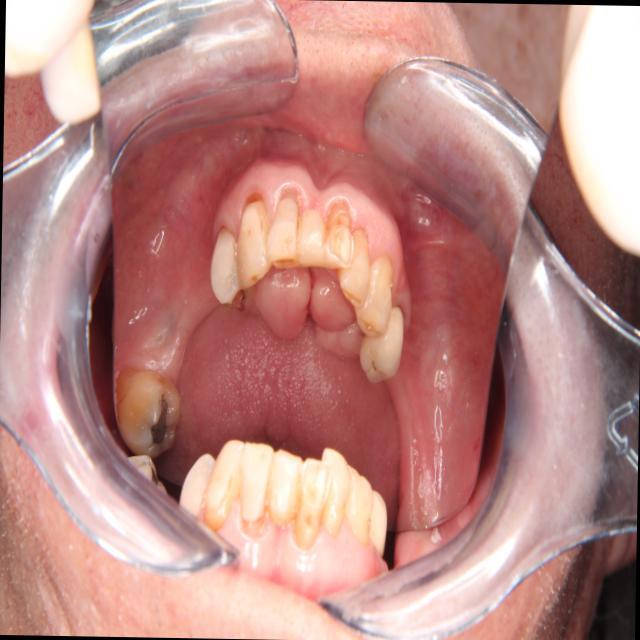tooth: (109, 361, 187, 463), (352, 300, 410, 385), (233, 191, 275, 292), (351, 248, 397, 339), (335, 222, 372, 308), (266, 192, 302, 269), (209, 227, 242, 310), (321, 198, 356, 274), (298, 198, 328, 275)
